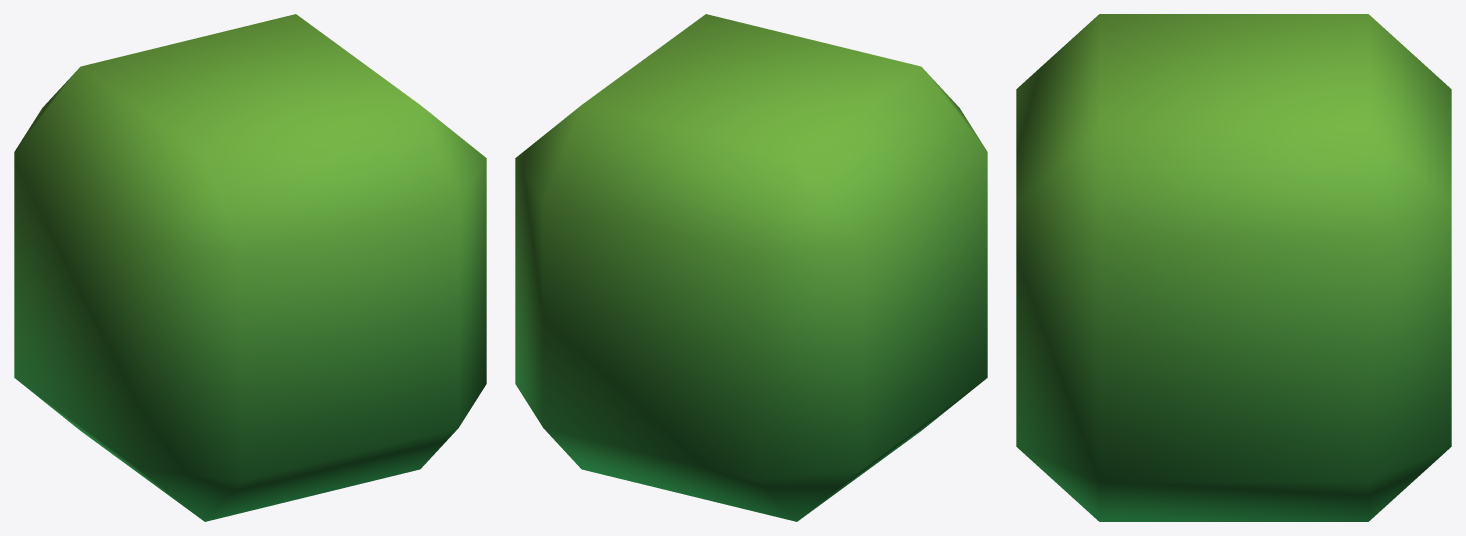
Rendered from Bush_2_A_Color1.glb.
3 views of the same model, side by side, from view 1: azimuth 30°, elevation 25°; view 2: azimuth 150°, elevation 25°; view 3: azimuth 270°, elevation 25° (orthographic). The views are drawn at different scales.
Visible parts, largest first — view 1: Bush_2_A_Color1; view 2: Bush_2_A_Color1; view 3: Bush_2_A_Color1.
Boxes of the visible parts, <box> form: Bush_2_A_Color1: <box>14,14,486,521</box>; Bush_2_A_Color1: <box>515,14,987,521</box>; Bush_2_A_Color1: <box>1016,14,1451,521</box>.
Size of the model in its own units: 0.528 by 0.528 by 0.528.
1 material, 1 textured.
